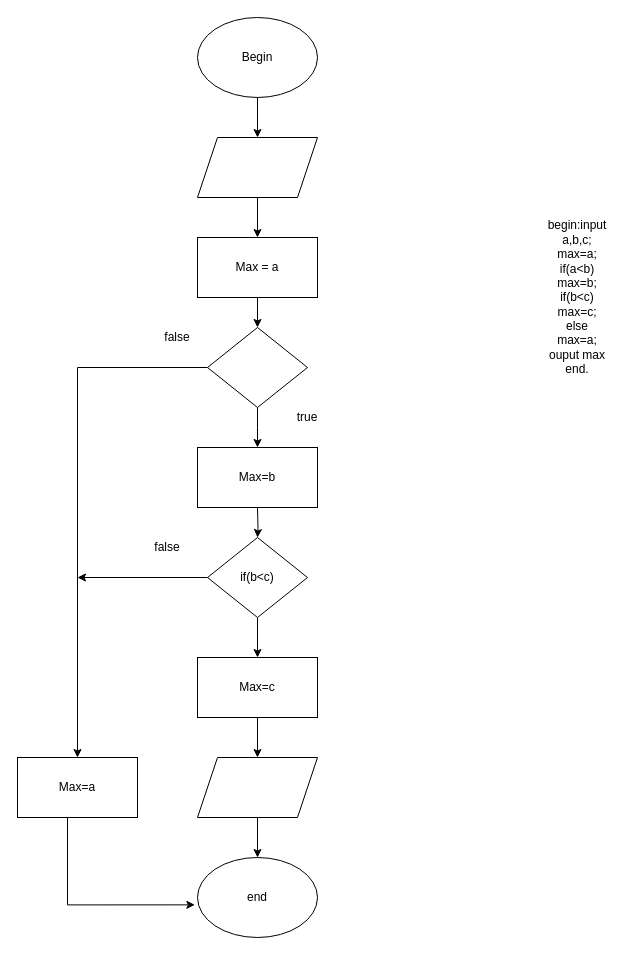
Image size: 624x955. Some labels were removed from this diagram. Here are the shapes that lost their labels. From the top down, the centre of each, then its label:
point 257,167: Input:a,b,c
point 257,367: if(a<b)
point 257,787: ouput:max
